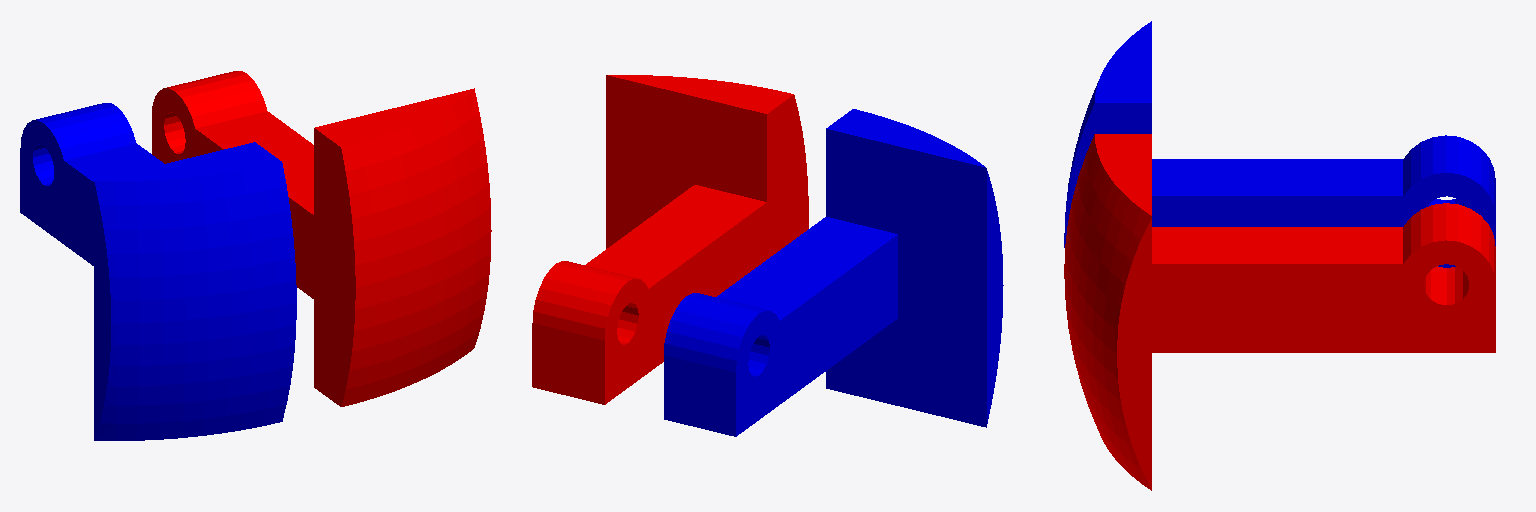
The robot description file, URDF, robot "horton_urdf_files":
<?xml version="1.0" encoding="utf-8"?>
<!-- This URDF was automatically created by SolidWorks to URDF Exporter! Originally created by Stephen Brawner (brawner@gmail.com) 
     Commit Version: 1.6.0-4-g7f85cfe  Build Version: 1.6.7995.38578
     For more information, please see http://wiki.ros.org/sw_urdf_exporter -->
<robot
  name="horton_urdf_files">
  <link
    name="l_leg">
    <inertial>
      <origin
        xyz="0.0245 -0.037154 -0.0075237"
        rpy="0 0 0" />
      <mass
        value="0.084087" />
      <inertia
        ixx="8.3472E-05"
        ixy="-7.0723E-22"
        ixz="4.5039E-22"
        iyy="1.2554E-05"
        iyz="-1.4675E-06"
        izz="8.122E-05" />
    </inertial>
    <visual>
      <origin
        xyz="0 0 0"
        rpy="0 0 0" />
      <geometry>
        <mesh
          filename="package://horton_urdf_files/meshes/l_leg.STL" />
      </geometry>
      <material
        name="">
        <color
          rgba="1 0 0 1" />
      </material>
    </visual>
    <collision>
      <origin
        xyz="0 0 0"
        rpy="0 0 0" />
      <geometry>
        <mesh
          filename="package://horton_urdf_files/meshes/l_leg.STL" />
      </geometry>
    </collision>
  </link>
  <link
    name="l_foot">
    <inertial>
      <origin
        xyz="0.036703 -0.1002 -0.0079999"
        rpy="0 0 0" />
      <mass
        value="0.10264" />
      <inertia
        ixx="6.8122E-05"
        ixy="-3.3036E-06"
        ixz="-2.4446E-10"
        iyy="9.0753E-05"
        iyz="-2.4932E-10"
        izz="3.1313E-05" />
    </inertial>
    <visual>
      <origin
        xyz="0 0 0"
        rpy="0 0 0" />
      <geometry>
        <mesh
          filename="package://horton_urdf_files/meshes/l_foot.STL" />
      </geometry>
      <material
        name="">
        <color
          rgba="1 0 0 1" />
      </material>
    </visual>
    <collision>
      <origin
        xyz="0 0 0"
        rpy="0 0 0" />
      <geometry>
        <mesh
          filename="package://horton_urdf_files/meshes/l_foot.STL" />
      </geometry>
    </collision>
  </link>
  <joint
    name="l_ext"
    type="prismatic">
    <origin
      xyz="0 0 0"
      rpy="0 0 0" />
    <parent
      link="l_leg" />
    <child
      link="l_foot" />
    <axis
      xyz="0 -1 0" />
    <limit
      lower="-69"
      upper="69"
      effort="69"
      velocity="69" />
  </joint>
  <link
    name="r_leg">
    <inertial>
      <origin
        xyz="-0.0245 -0.037154 -0.0075237"
        rpy="0 0 0" />
      <mass
        value="0.084087" />
      <inertia
        ixx="8.3472E-05"
        ixy="-3.2575E-22"
        ixz="8.663E-22"
        iyy="1.2554E-05"
        iyz="-1.4675E-06"
        izz="8.122E-05" />
    </inertial>
    <visual>
      <origin
        xyz="0 0 0"
        rpy="0 0 0" />
      <geometry>
        <mesh
          filename="package://horton_urdf_files/meshes/r_leg.STL" />
      </geometry>
      <material
        name="">
        <color
          rgba="0 0 1 1" />
      </material>
    </visual>
    <collision>
      <origin
        xyz="0 0 0"
        rpy="0 0 0" />
      <geometry>
        <mesh
          filename="package://horton_urdf_files/meshes/r_leg.STL" />
      </geometry>
    </collision>
  </link>
  <joint
    name="hip_joint"
    type="revolute">
    <origin
      xyz="0 0 0"
      rpy="0 0 0" />
    <parent
      link="l_leg" />
    <child
      link="r_leg" />
    <axis
      xyz="-1 0 0" />
    <limit
      lower="-69"
      upper="69"
      effort="69"
      velocity="69" />
  </joint>
  <link
    name="r_foot">
    <inertial>
      <origin
        xyz="-0.036703 -0.1002 -0.0080001"
        rpy="0 0 0" />
      <mass
        value="0.10264" />
      <inertia
        ixx="6.8122E-05"
        ixy="3.3036E-06"
        ixz="-2.4446E-10"
        iyy="9.0753E-05"
        iyz="2.4932E-10"
        izz="3.1313E-05" />
    </inertial>
    <visual>
      <origin
        xyz="0 0 0"
        rpy="0 0 0" />
      <geometry>
        <mesh
          filename="package://horton_urdf_files/meshes/r_foot.STL" />
      </geometry>
      <material
        name="">
        <color
          rgba="0 0 1 1" />
      </material>
    </visual>
    <collision>
      <origin
        xyz="0 0 0"
        rpy="0 0 0" />
      <geometry>
        <mesh
          filename="package://horton_urdf_files/meshes/r_foot.STL" />
      </geometry>
    </collision>
  </link>
  <joint
    name="r_ext"
    type="fixed">
    <origin
      xyz="0 0 0"
      rpy="0 0 0" />
    <parent
      link="r_leg" />
    <child
      link="r_foot" />
    <axis
      xyz="0 0 0" />
    <limit
      lower="-69"
      upper="69"
      effort="69"
      velocity="69" />
  </joint>
</robot>

--- Facts derived from the render (not from the file) ---
3 views of the same robot in one strip: view 1: azimuth 30°, elevation 25°; view 2: azimuth 150°, elevation 25°; view 3: azimuth 270°, elevation 25° (orthographic).
Model horton_urdf_files with 4 links and 3 joints (1 revolute, 1 prismatic, 1 fixed), rooted at l_leg, posed all joints at 0.
Visible links, largest first — view 1: r_foot, l_foot, l_leg, r_leg; view 2: r_foot, r_leg, l_leg, l_foot; view 3: l_leg, l_foot, r_leg, r_foot.
Boxes of the visible links, bbox=[...] form: r_foot: bbox=[94, 142, 296, 440]; l_foot: bbox=[314, 88, 491, 406]; l_leg: bbox=[152, 71, 313, 298]; r_leg: bbox=[20, 103, 163, 265]; r_foot: bbox=[826, 109, 1003, 427]; r_leg: bbox=[664, 217, 897, 436]; l_leg: bbox=[532, 185, 766, 404]; l_foot: bbox=[606, 75, 808, 258]; l_leg: bbox=[1152, 203, 1495, 352]; l_foot: bbox=[1064, 134, 1151, 490]; r_leg: bbox=[1152, 135, 1495, 267]; r_foot: bbox=[1064, 21, 1151, 247].
Size in the robot's own frame: 0.142 by 0.132 by 0.0928 metres.
Meshes: 4 distinct files referenced, 4 mesh visuals loaded (4 binary STL).
